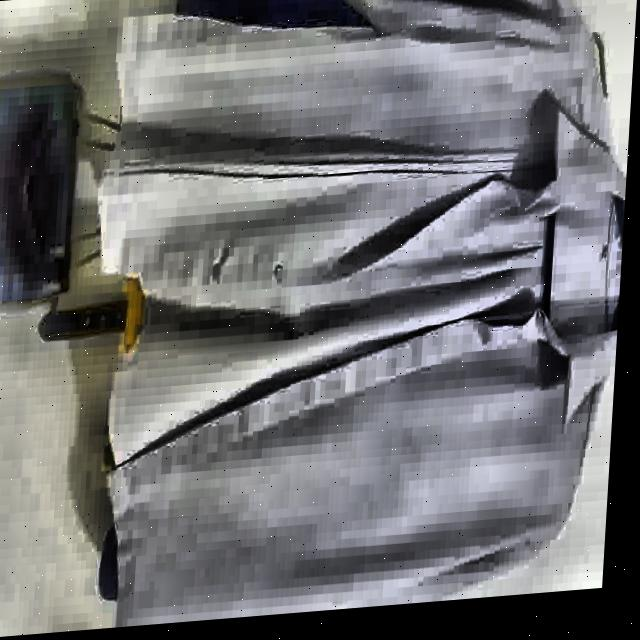clothes: (67, 0, 637, 631)
